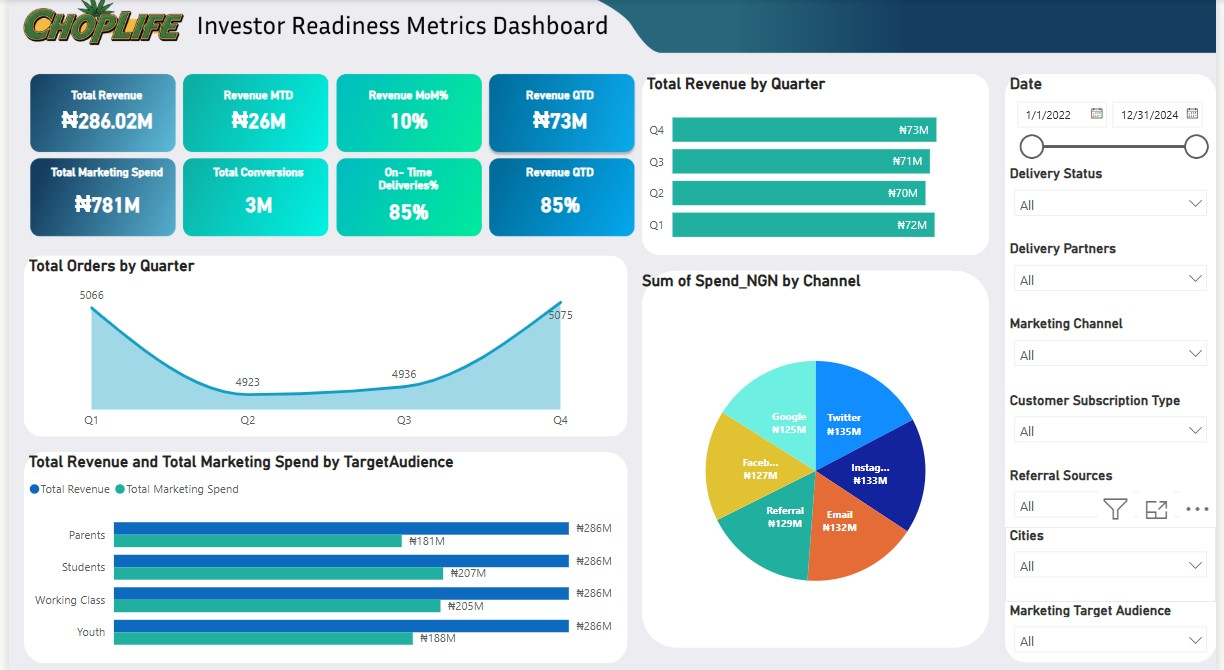

The dashboard page shown, as its layout file describes it:
{"tool":"powerbi","page":{"name":"Investor Dashbaord","canvas":[1280,720],"ordinal":2},"visuals":[{"type":"shape","box":[672,288,368,400],"z":0},{"type":"shape","box":[672,80,368,192],"z":1000},{"type":"shape","box":[16,272,640,192],"z":2000},{"type":"shape","box":[16,480,640,224],"z":3000},{"type":"shape","box":[1056,80,224,624],"z":4000},{"type":"areaChart","fields":{"Category":["Datetable.Month","Datetable.Year","Datetable.Quarter"],"Y":["Aggregate Measures.Total Orders"]},"box":[16,272,640,192],"z":5000},{"type":"pieChart","fields":{"Y":["Sum(Marketing.Spend_NGN)"],"Category":["DimChannels.Channel"]},"box":[672,288,368,400],"z":6000},{"type":"card","title":"Total Marketing Spend","fields":{"Values":["Aggregate Measures.Total Marketing Spend"]},"box":[32,160,144,96],"z":8000},{"type":"card","title":"Total Conversions","fields":{"Values":["Aggregate Measures.Total Conversions"]},"box":[192,160,144,96],"z":10000},{"type":"clusteredBarChart","fields":{"Category":["DimTargetAudience.TargetAudience"],"Y":["Aggregate Measures.Total Revenue","Aggregate Measures.Total Marketing Spend"]},"box":[16,480,640,224],"z":11000},{"type":"slicer","title":"Delivery Status","fields":{"Values":["DimDeliveryStatus.DeliveryStatus"]},"box":[1056,176,224,80],"z":12000},{"type":"slicer","title":"Delivery Partners","fields":{"Values":["DimDeliveryPartner.DeliveryPartner"]},"box":[1056,256,224,80],"z":13000},{"type":"slicer","title":"Marketing Channel","fields":{"Values":["DimChannels.Channel"]},"box":[1056,336,224,80],"z":14000},{"type":"slicer","title":"Customer Subscription Type","fields":{"Values":["DimSubscriptionType.SubscriptionType"]},"box":[1056,416,224,80],"z":15000},{"type":"slicer","title":"Referral Sources","fields":{"Values":["DimReferralSource.ReferralSource"]},"box":[1056,496,224,64],"z":16000},{"type":"slicer","title":"Cities","fields":{"Values":["DimLocation.City"]},"box":[1056,560,224,80],"z":17000},{"type":"slicer","title":"Marketing Target Audience","fields":{"Values":["DimTargetAudience.TargetAudience"]},"box":[1056,640,224,64],"z":18000},{"type":"card","title":"Total Revenue","fields":{"Values":["Aggregate Measures.Total Revenue"]},"box":[48,80,112,80],"z":19000},{"type":"card","title":"Revenue MTD","fields":{"Values":["Time Intelligence Measures.Revenue MTD"]},"box":[208,80,112,80],"z":20000},{"type":"card","title":"Revenue MoM%","fields":{"Values":["Time Intelligence Measures.Revenue MoM %"]},"box":[368,80,112,80],"z":21000},{"type":"card","title":"Revenue QTD","fields":{"Values":["Time Intelligence Measures.Revenue QTD"]},"box":[528,80,112,80],"z":22000},{"type":"card","title":"Revenue QTD","fields":{"Values":["Time Intelligence Measures.On-Time %"]},"box":[528,160,112,96],"z":23000},{"type":"clusteredBarChart","fields":{"Category":["Datetable.Quarter"],"Y":["Aggregate Measures.Total Revenue"]},"box":[672,80,368,192],"z":24000},{"type":"slicer","title":"Date","fields":{"Values":["DimDate.Date"]},"box":[1056,80,224,96],"z":25000},{"type":"card","title":"On- Time Deliveries%","fields":{"Values":["Time Intelligence Measures.On-Time %"]},"box":[368,160,112,96],"z":25001}]}

Visuals, with their boxes in screenshot pixels (x1, y1, x2, y2), scaled from the page's 1280x720 canvas onto the 1224x670 screenshot:
shape: x1=643, y1=268, x2=994, y2=640
shape: x1=643, y1=74, x2=994, y2=253
shape: x1=15, y1=253, x2=627, y2=432
shape: x1=15, y1=447, x2=627, y2=655
shape: x1=1010, y1=74, x2=1223, y2=655
areaChart - Datetable.Month x Datetable.Year: x1=15, y1=253, x2=627, y2=432
pieChart - Sum(Marketing.Spend_NGN) x DimChannels.Channel: x1=643, y1=268, x2=994, y2=640
"Total Marketing Spend" card: x1=31, y1=149, x2=168, y2=238
"Total Conversions" card: x1=184, y1=149, x2=321, y2=238
clusteredBarChart - DimTargetAudience.TargetAudience x Aggregate Measures.Total Revenue: x1=15, y1=447, x2=627, y2=655
"Delivery Status" slicer: x1=1010, y1=164, x2=1223, y2=238
"Delivery Partners" slicer: x1=1010, y1=238, x2=1223, y2=313
"Marketing Channel" slicer: x1=1010, y1=313, x2=1223, y2=387
"Customer Subscription Type" slicer: x1=1010, y1=387, x2=1223, y2=462
"Referral Sources" slicer: x1=1010, y1=462, x2=1223, y2=521
"Cities" slicer: x1=1010, y1=521, x2=1223, y2=596
"Marketing Target Audience" slicer: x1=1010, y1=596, x2=1223, y2=655
"Total Revenue" card: x1=46, y1=74, x2=153, y2=149
"Revenue MTD" card: x1=199, y1=74, x2=306, y2=149
"Revenue MoM%" card: x1=352, y1=74, x2=459, y2=149
"Revenue QTD" card: x1=505, y1=74, x2=612, y2=149
"Revenue QTD" card: x1=505, y1=149, x2=612, y2=238
clusteredBarChart - Datetable.Quarter x Aggregate Measures.Total Revenue: x1=643, y1=74, x2=994, y2=253
"Date" slicer: x1=1010, y1=74, x2=1223, y2=164
"On- Time Deliveries%" card: x1=352, y1=149, x2=459, y2=238
